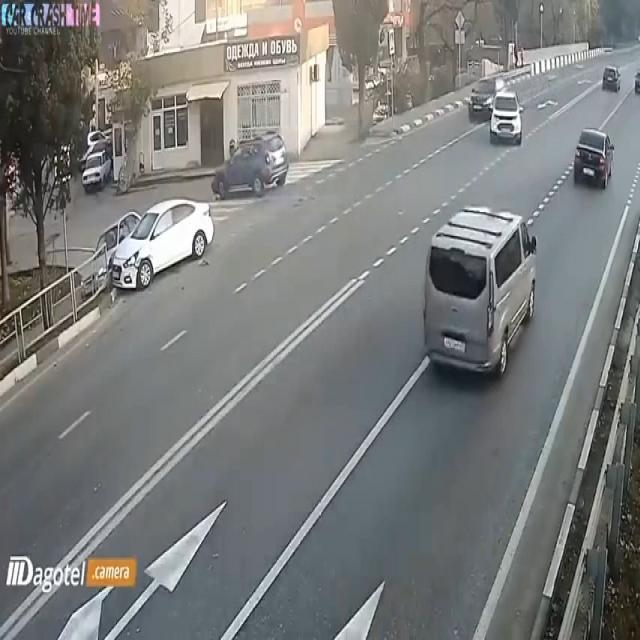Accident: (94, 186, 218, 302)
